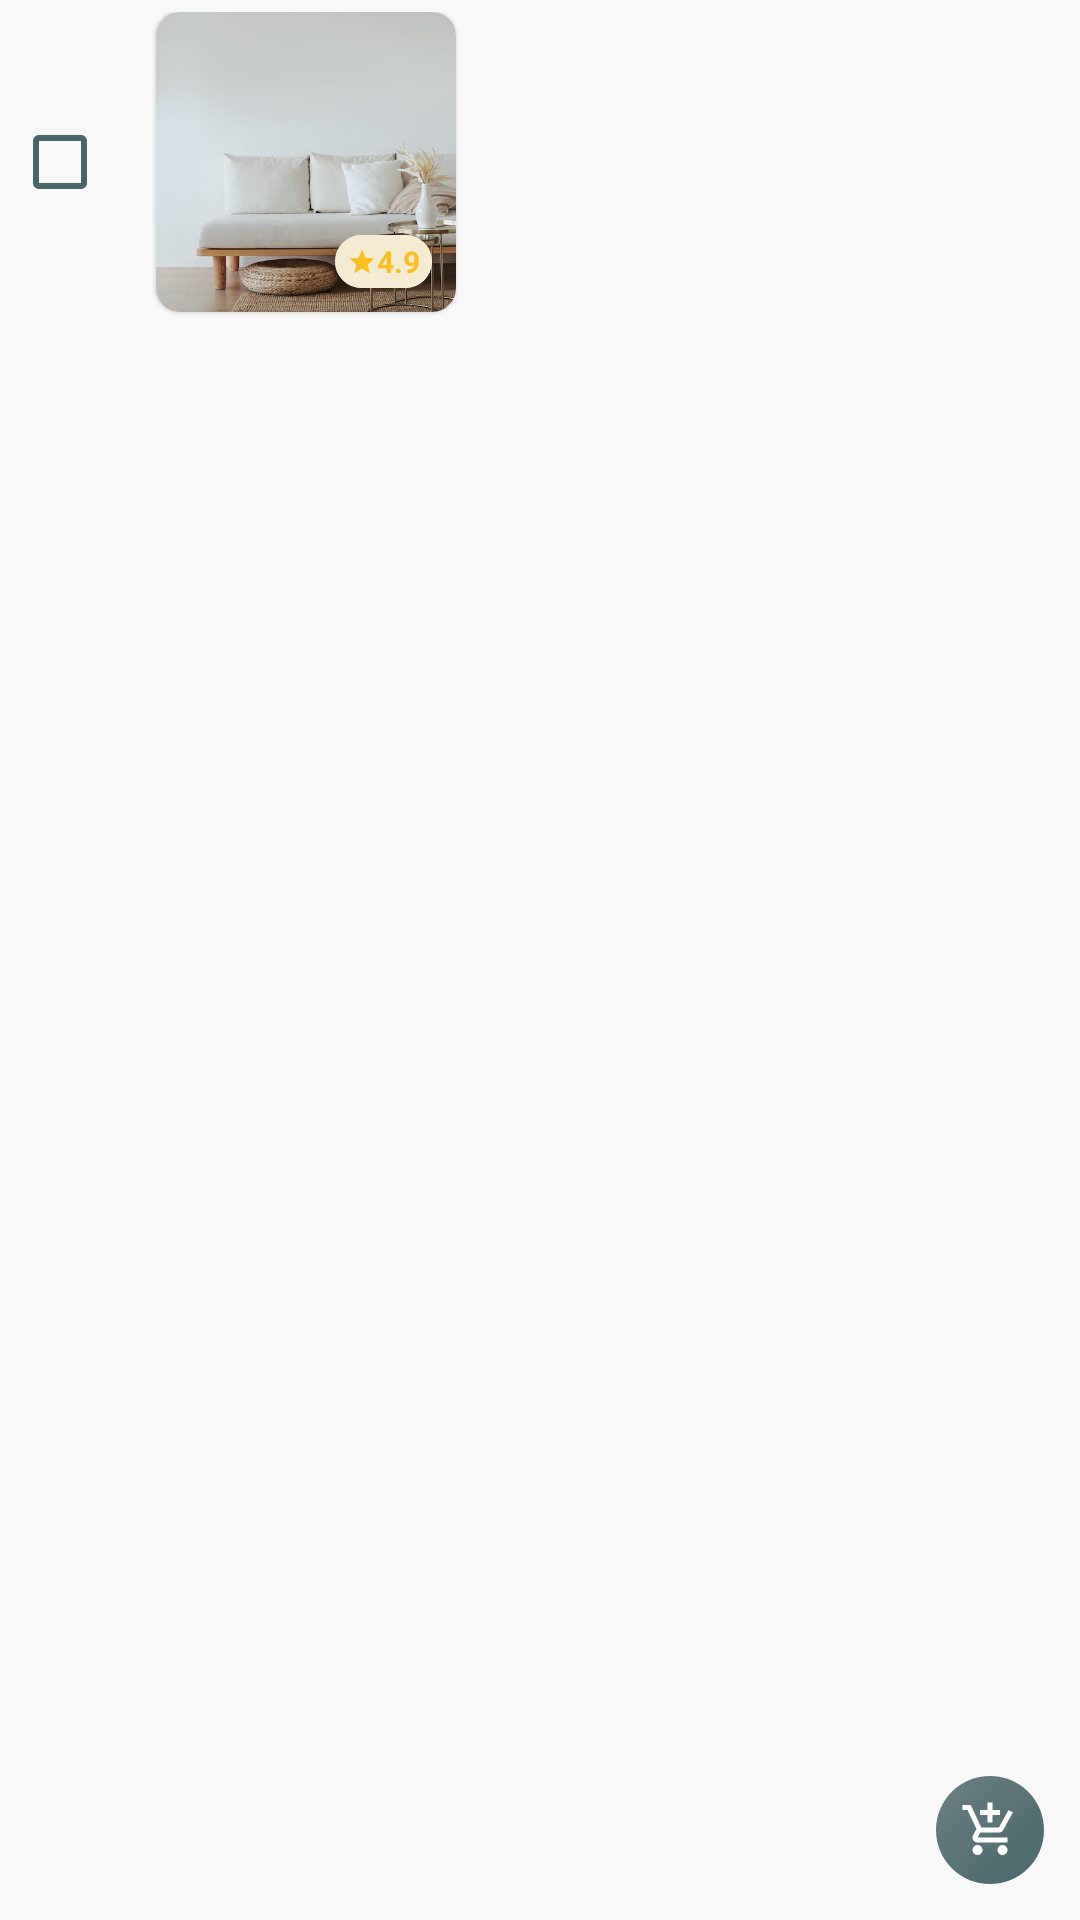

Icon bounding boxes for this 1080 x 1920 phone screenshot, format (x1, y1, x2, y2):
Add to cart icon: (936, 1776, 1044, 1884)
